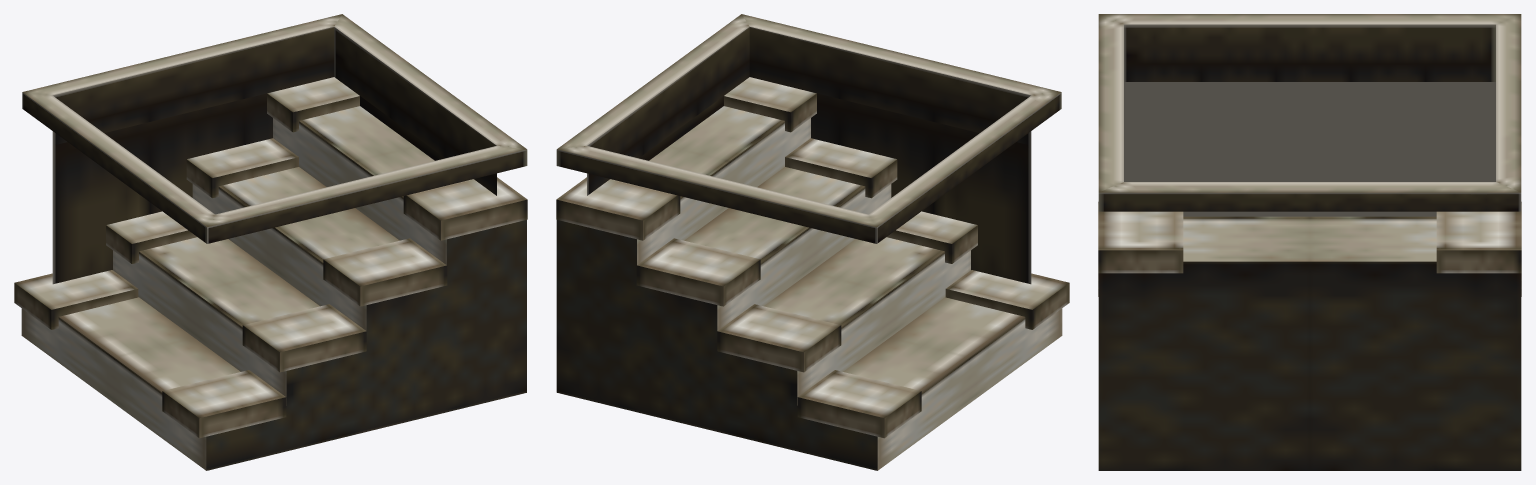
File: Poly_Stairs_01_Down_Left.obj
The picture shows the model from 3 angles, left to right: view 1: azimuth 30°, elevation 25°; view 2: azimuth 150°, elevation 25°; view 3: azimuth 270°, elevation 25°; orthographic projection. The views are drawn at different scales.
Visible parts, largest first — view 1: Cube.001, Cube, Cube.002; view 2: Cube.001, Cube, Cube.002; view 3: Cube.001, Cube, Cube.002.
Boxes of the visible parts, bbox=[...] form: Cube.001: bbox=[21, 106, 526, 470]; Cube: bbox=[22, 14, 527, 284]; Cube.002: bbox=[14, 77, 527, 438]; Cube.001: bbox=[556, 106, 1062, 470]; Cube: bbox=[556, 14, 1061, 284]; Cube.002: bbox=[556, 77, 1069, 438]; Cube.001: bbox=[1098, 216, 1521, 470]; Cube: bbox=[1098, 14, 1521, 216]; Cube.002: bbox=[1098, 202, 1521, 296].
Bounding box in the file's own units: 1.03 × 0.73 × 1.
1 material, 1 textured.
